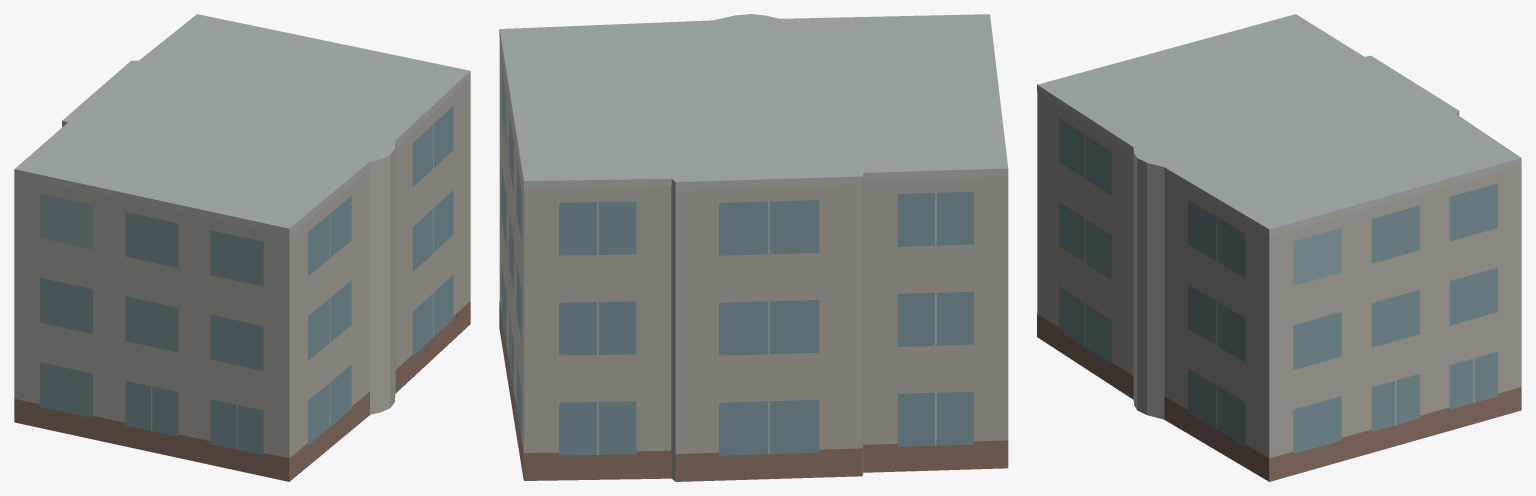
The model's file is survey-upis-32625338.glb.
3 views of the same model, side by side, from view 1: azimuth 30°, elevation 25°; view 2: azimuth 150°, elevation 25°; view 3: azimuth 270°, elevation 25° (orthographic). The views are drawn at different scales.
Parts seen in each view (by area): view 1: survey-upis-32625338.tmp; view 2: survey-upis-32625338.tmp; view 3: survey-upis-32625338.tmp.
Part boxes in pixels (x1,y1,x2,y2): survey-upis-32625338.tmp: [14, 14, 470, 481]; survey-upis-32625338.tmp: [499, 14, 1008, 481]; survey-upis-32625338.tmp: [1037, 14, 1521, 481].
Bounding box in the file's own units: 16.76 × 9.15 × 15.93.
